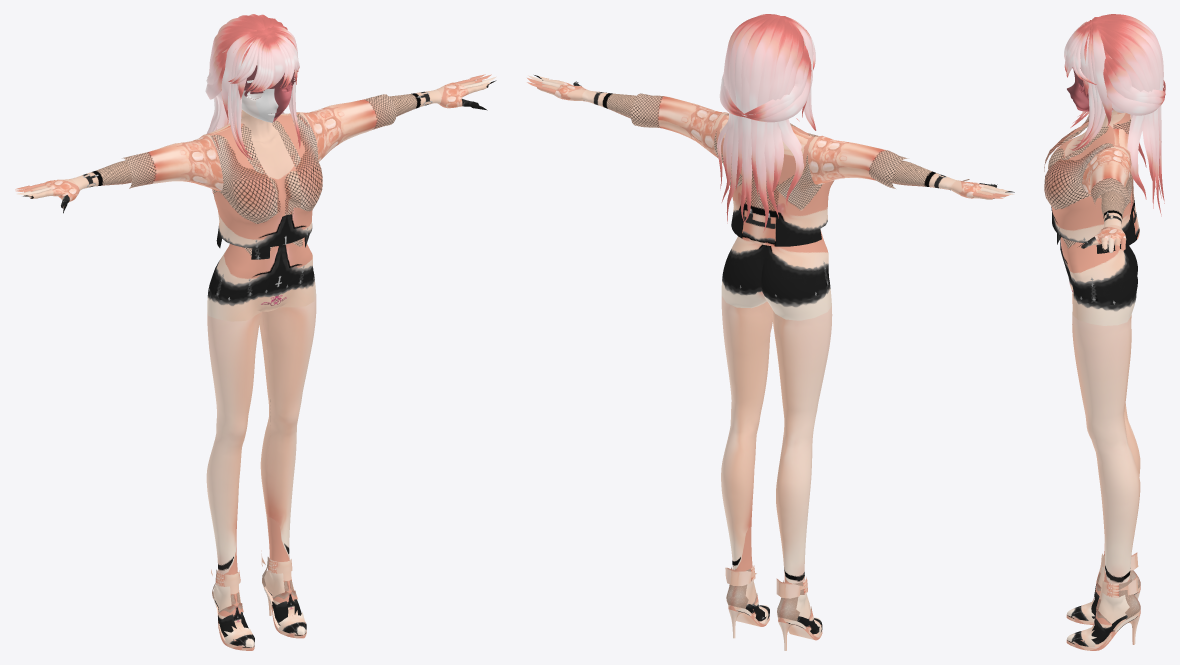
The picture shows the model from 3 angles, left to right: view 1: azimuth 30°, elevation 25°; view 2: azimuth 150°, elevation 25°; view 3: azimuth 270°, elevation 25°; orthographic projection.
Visible parts, largest first — view 1: Body, Hair, Face; view 2: Body, Hair; view 3: Body, Hair, Face.
Part boxes in pixels (<box>): Body: <box>15,52,496,650</box>; Hair: <box>205,14,300,193</box>; Face: <box>241,65,296,122</box>; Body: <box>527,42,1014,650</box>; Hair: <box>717,14,816,232</box>; Body: <box>1044,109,1140,650</box>; Hair: <box>1064,14,1165,216</box>; Face: <box>1067,67,1089,111</box>.
Size of the model in its own units: 1.44 by 1.74 by 0.3119.
3 materials, 3 textured.
